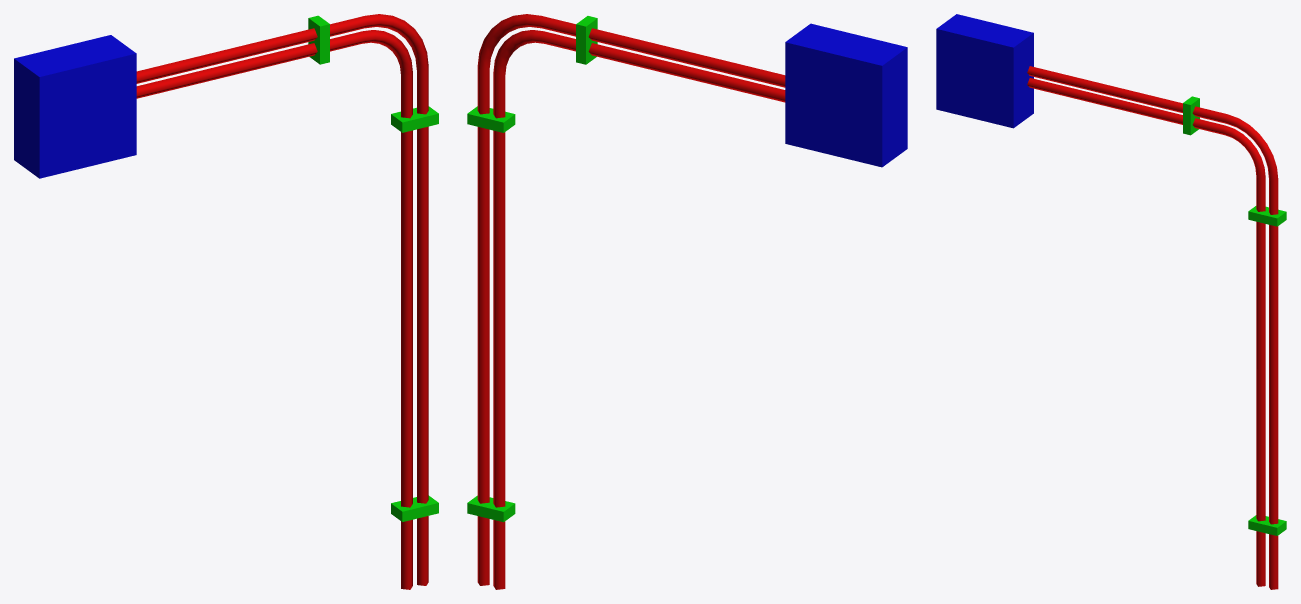
The model's file is FuseBox01.FBX.
3 views of the same model, side by side, from view 1: azimuth 30°, elevation 25°; view 2: azimuth 150°, elevation 25°; view 3: azimuth 330°, elevation 25° (orthographic). The views are drawn at different scales.
Parts seen in each view (by area): view 1: FuseBox01; view 2: FuseBox01; view 3: FuseBox01.
Boxes of the visible parts, x1,y1,x2,y2 form: FuseBox01: (14,14,438,589); FuseBox01: (467,14,907,589); FuseBox01: (936,14,1286,589).
Size of the model in its own units: 1.39 by 1.98 by 0.1529.
